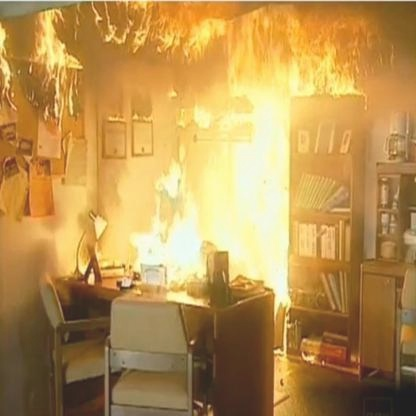fire: (1, 0, 402, 296)
